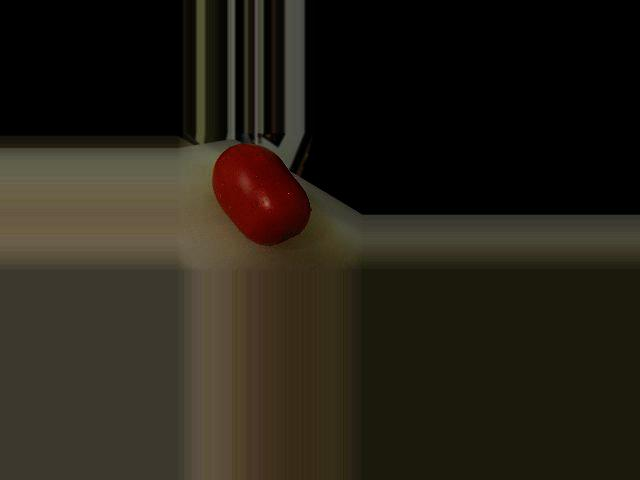tomato: (212, 143, 310, 245)
